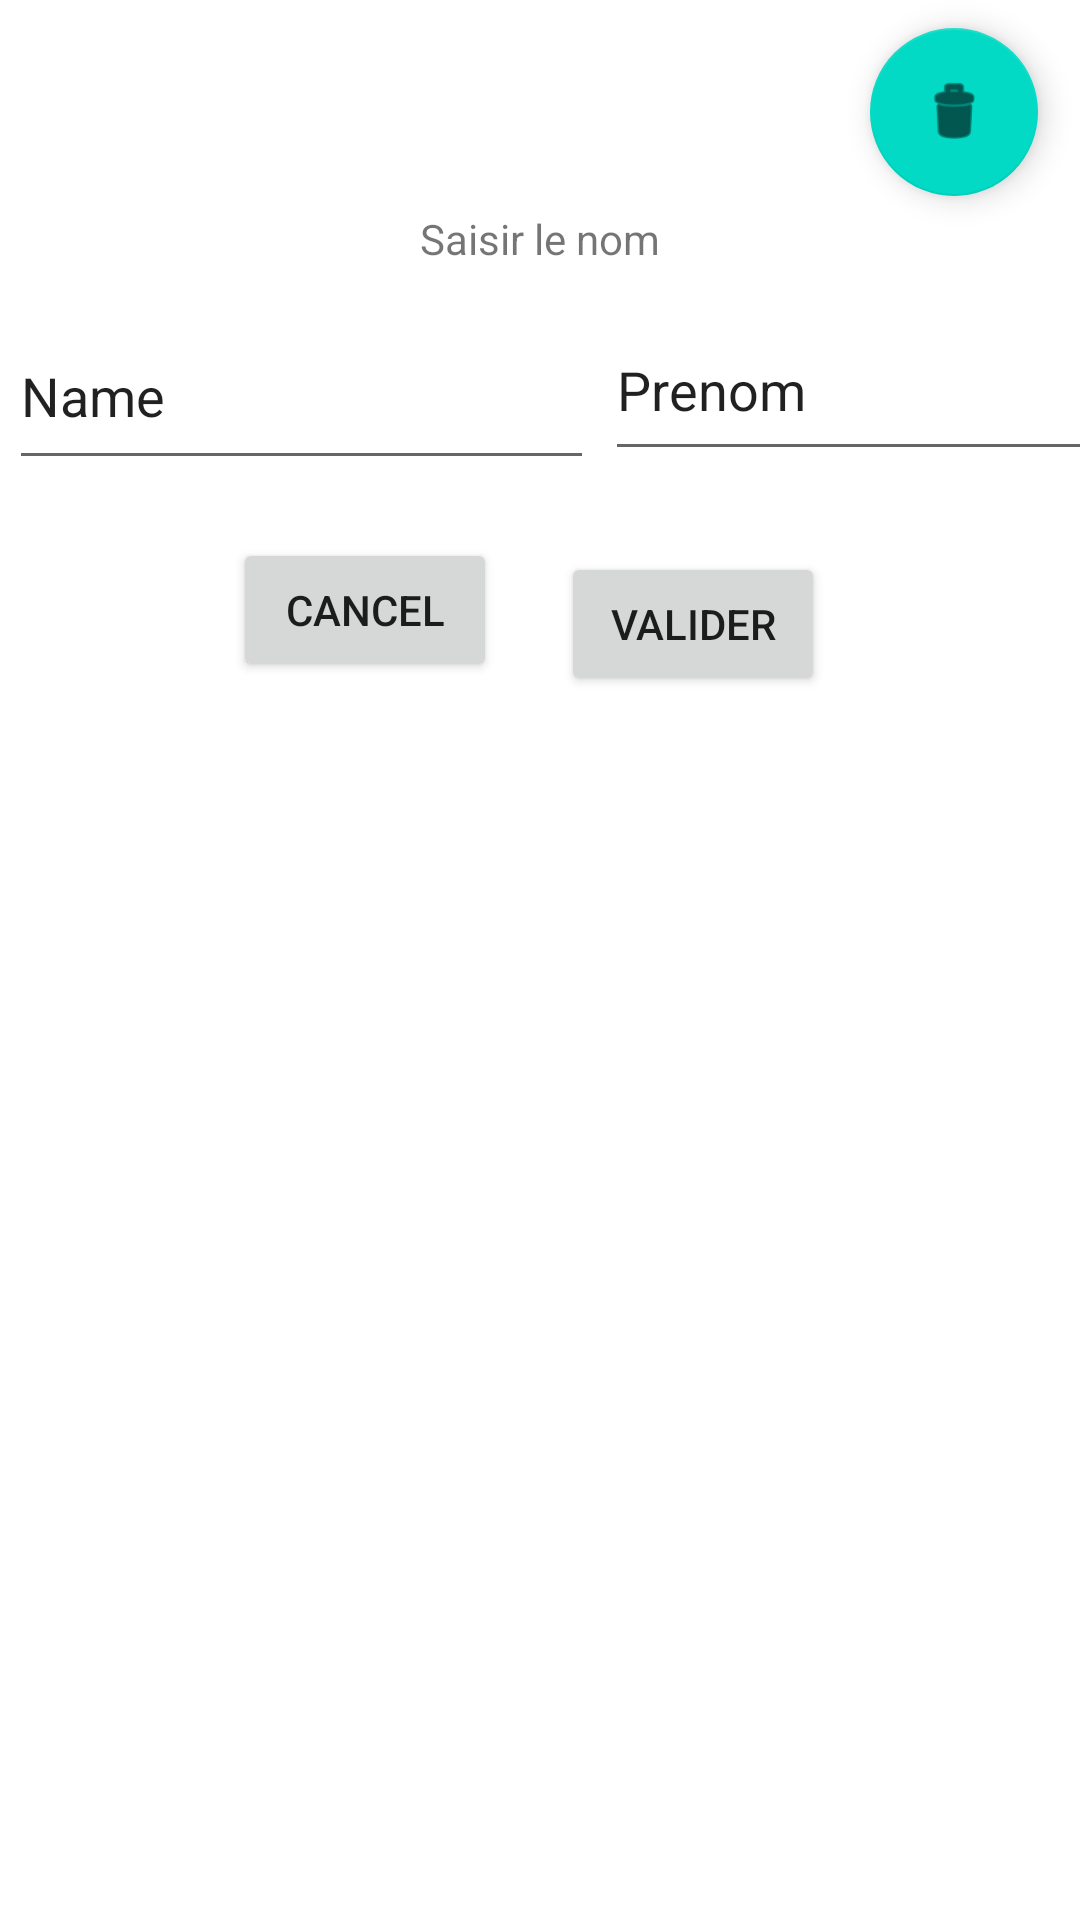

Icons on this 1080w x 1920h Android screen, each with the point to tap as [x,y]:
delete: [954,112]
